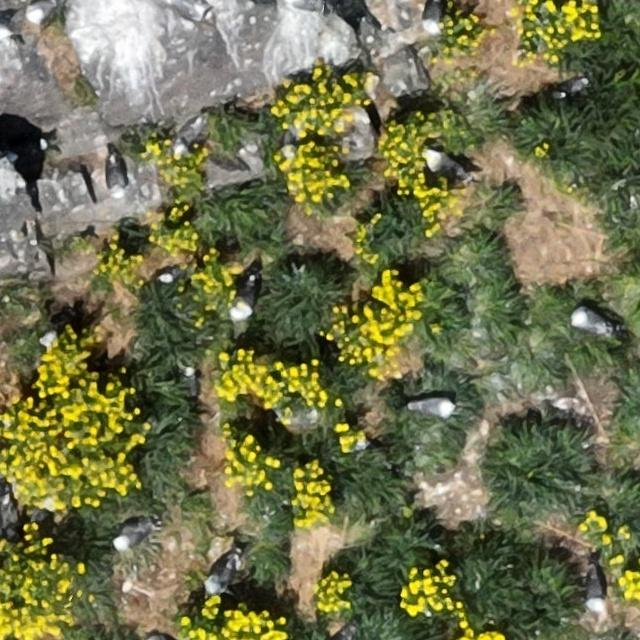umineko: (234, 273, 258, 317), (207, 557, 237, 592), (113, 520, 150, 547), (426, 152, 462, 175), (585, 570, 604, 612), (412, 398, 454, 417), (572, 309, 606, 332), (108, 156, 125, 192), (558, 77, 588, 97), (424, 0, 442, 32), (183, 367, 199, 398)
